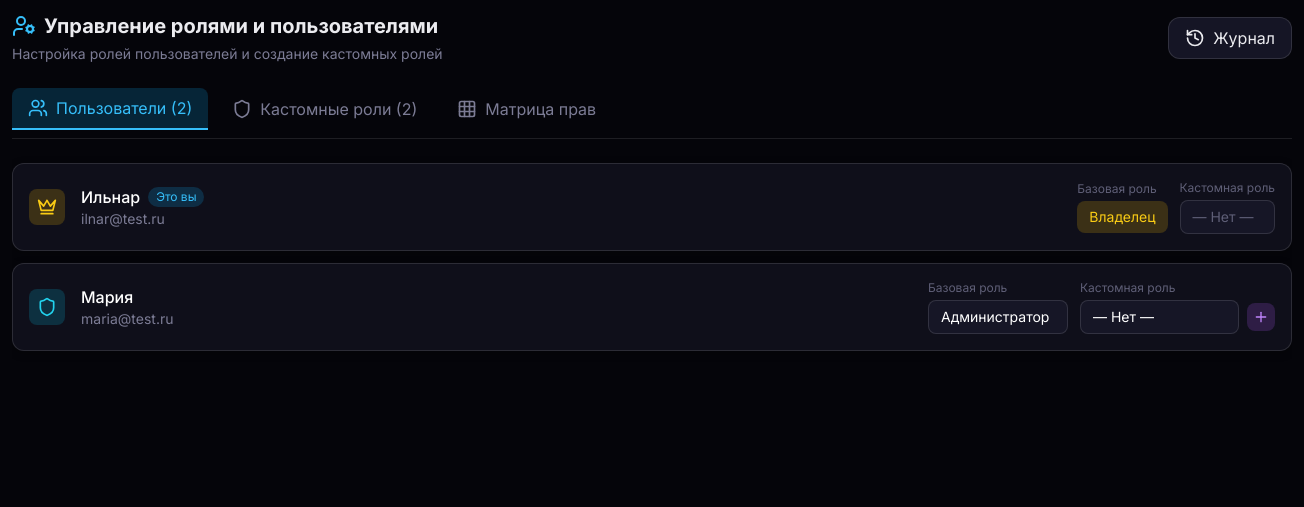
Test: RoleManagement › журнал › открывается кнопкой «Журнал» и грузит записи только тогда
Check: the heading "Мария" is shown, box [81,285,133,309]
Click the button "Журнал" at (1230, 38), box [1168,17,1292,59]
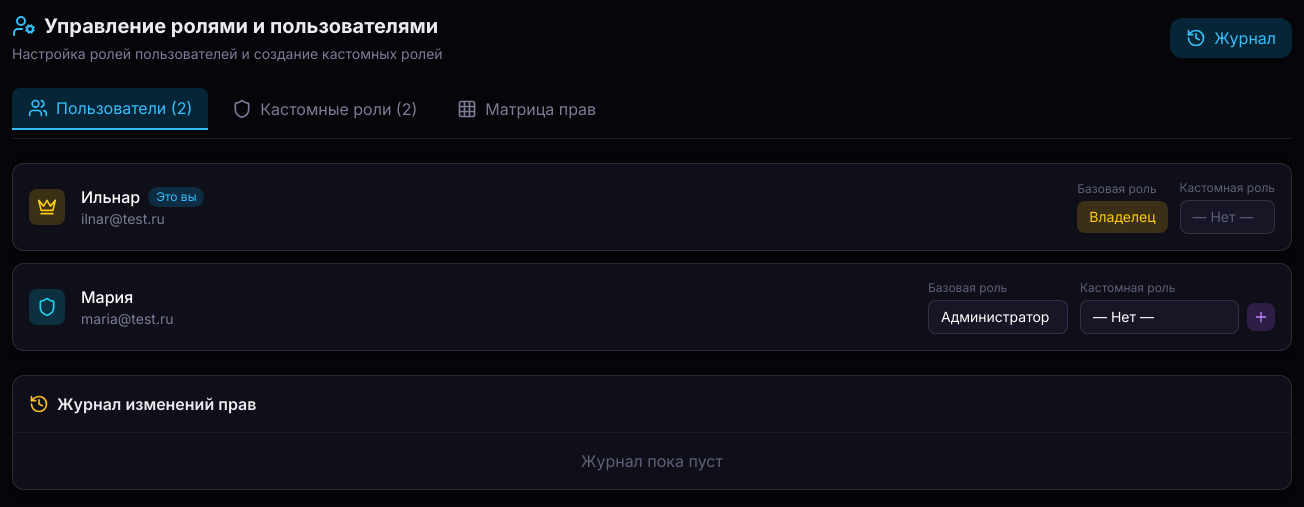
Check: the heading "Журнал изменений прав" is shown, box [29,394,256,414]
Check: the text "Журнал пока пуст" is shown, box [581,451,723,471]
